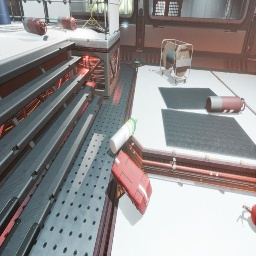0: (110, 118, 138, 154)
FireExtinguisher ]: (242, 202, 256, 226)
FirstAidBox ,: (111, 150, 152, 215)
NitrogenTank ,: (206, 96, 246, 113), (23, 17, 47, 36), (57, 16, 78, 31)
